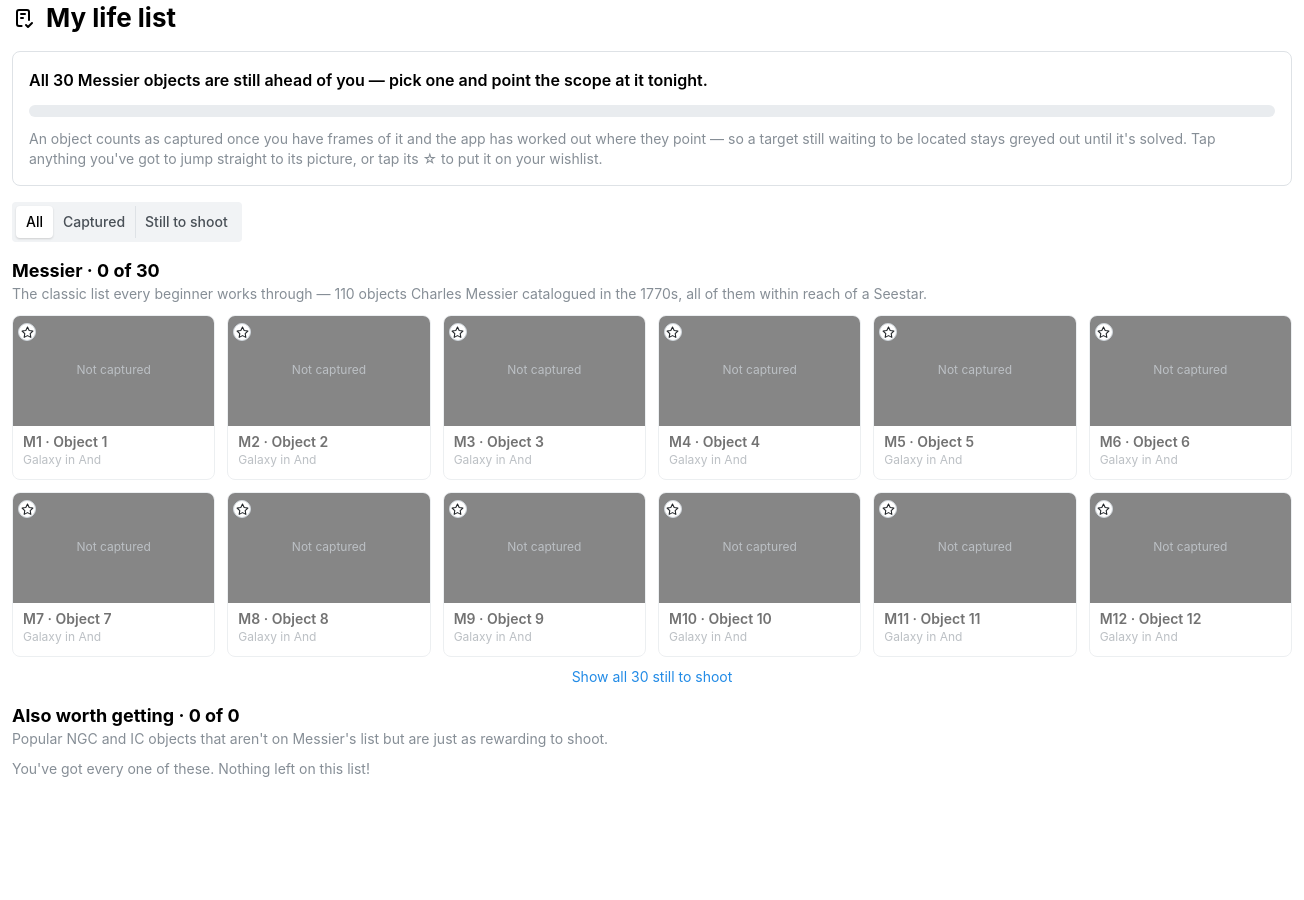
Test: LifeListView › never shortens the list the user explicitly asked for
expect the text "M1 · Object 1" is shown: met, box [23, 433, 107, 450]
Click the text "Still to shoot".
click(186, 222)  # box [145, 214, 228, 230]
(page scrolled)
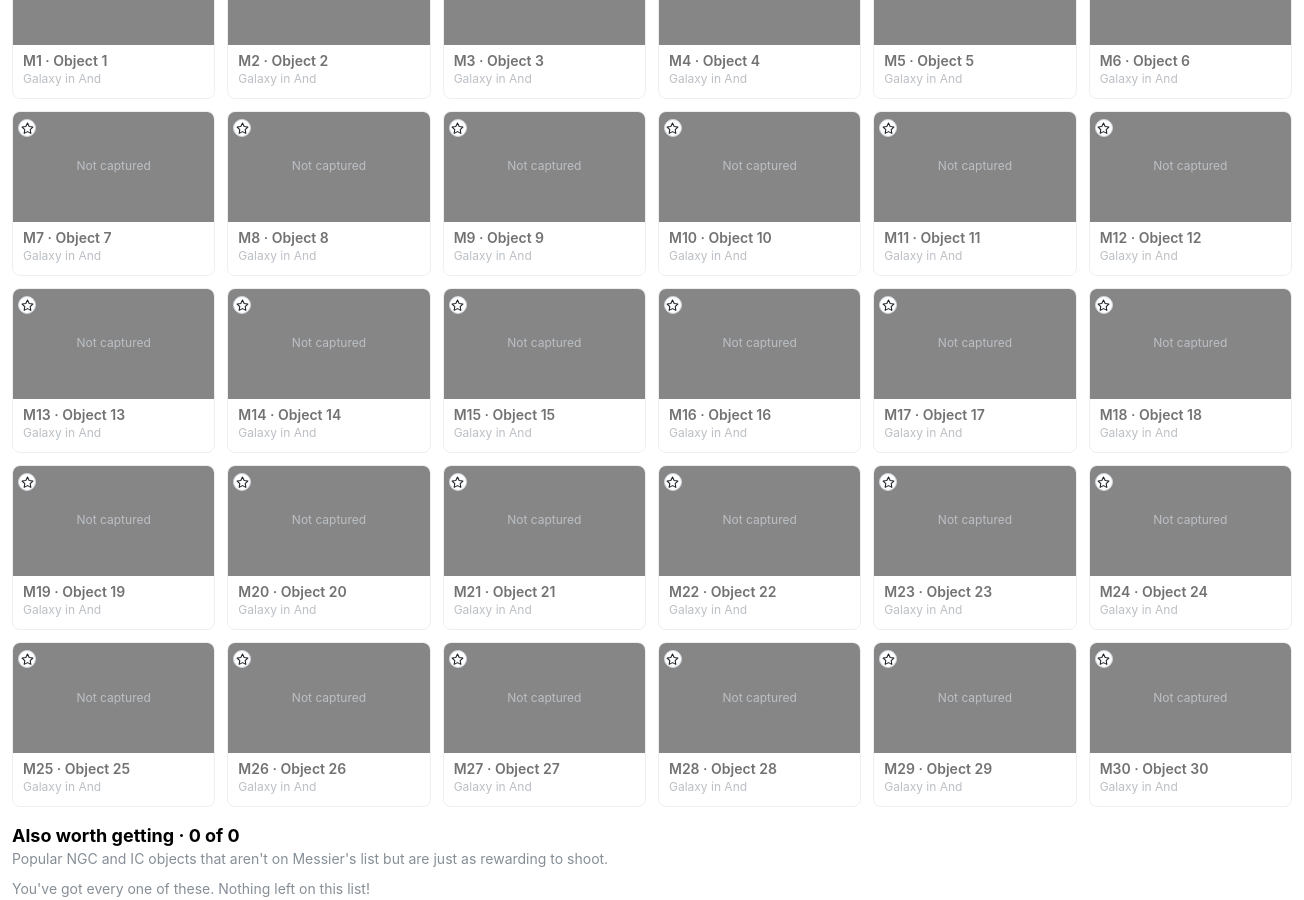
expect the text "M30 · Object 30" is shown: met, box [1100, 760, 1208, 777]
expect the button "Show all 30" is gone: met
